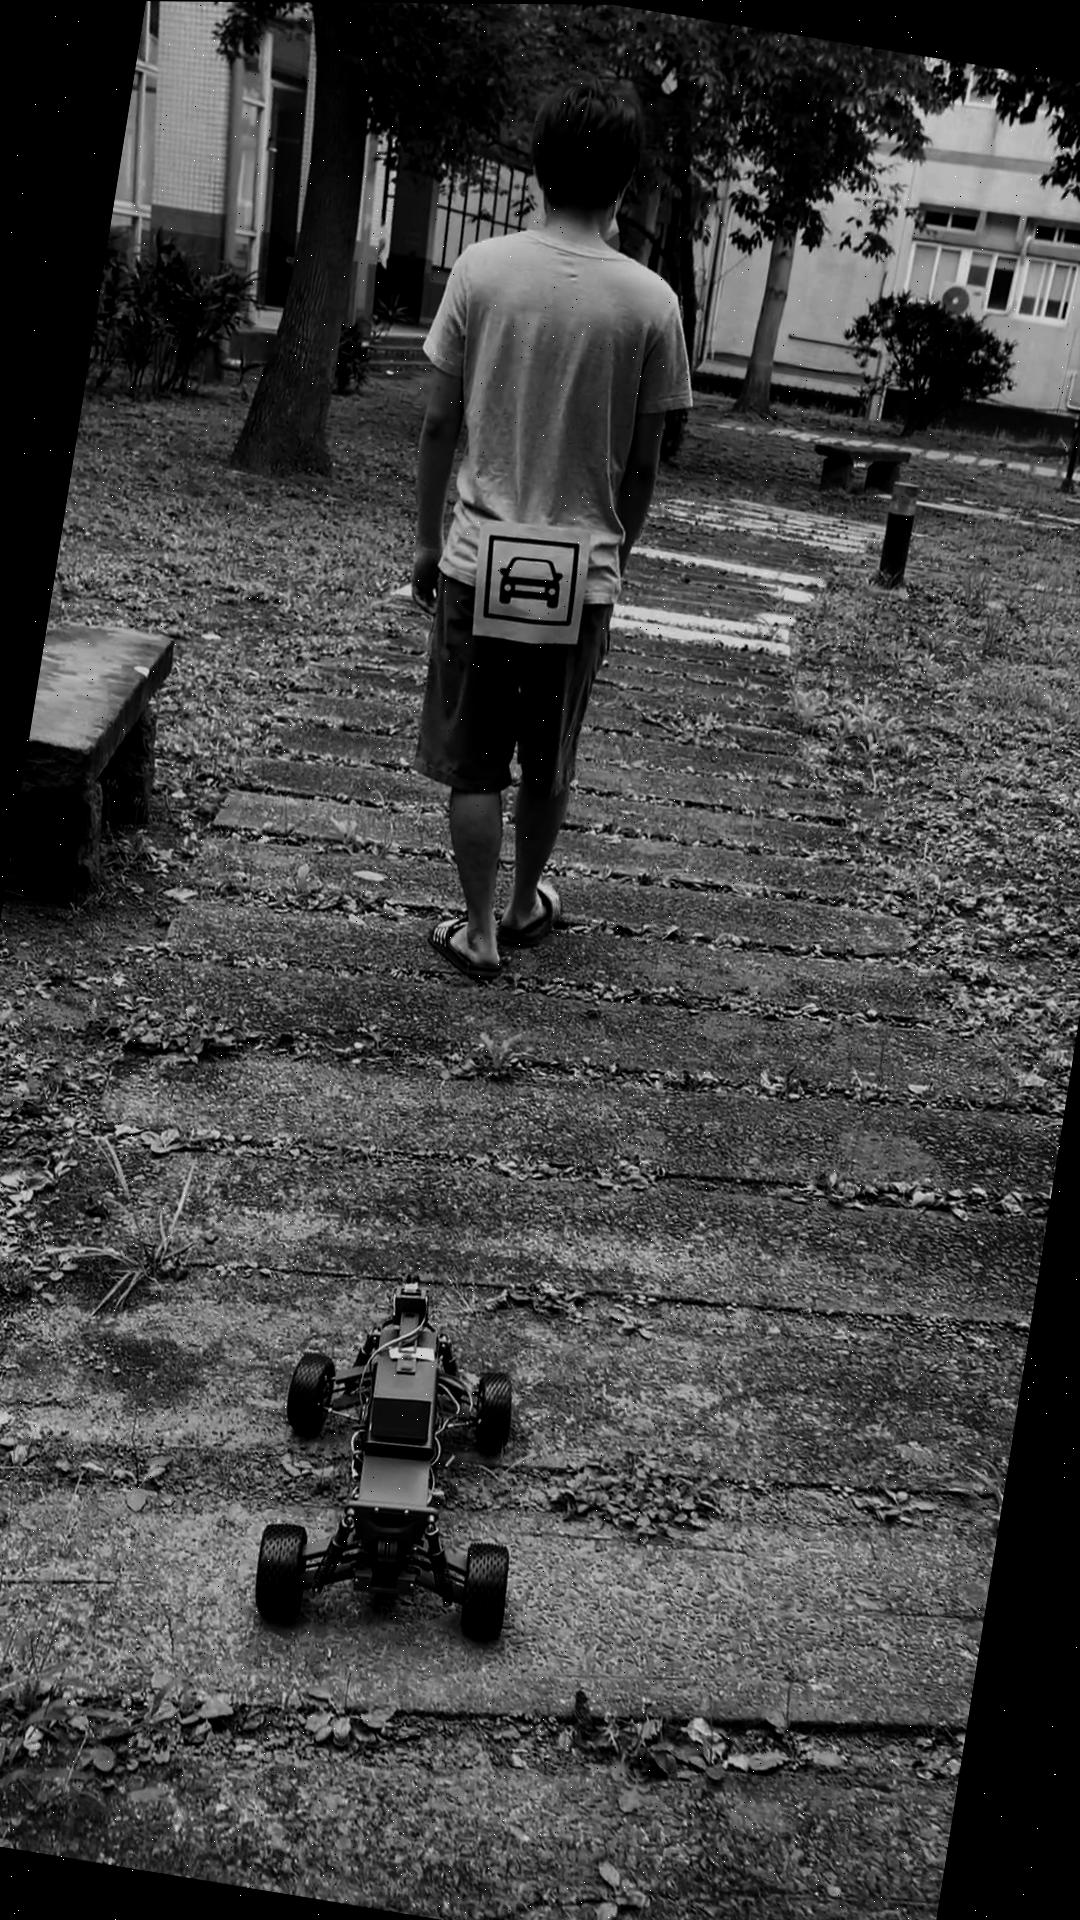car_img: (475, 526, 583, 632)
